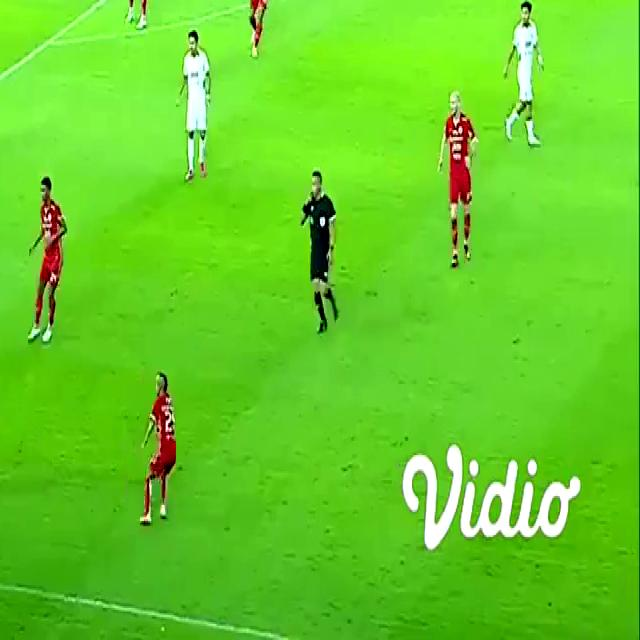referee: (290, 158, 360, 341)
soccer-player: (16, 166, 84, 354), (121, 367, 187, 540), (434, 81, 494, 268), (492, 0, 555, 158), (169, 28, 224, 194), (234, 0, 284, 64), (113, 0, 163, 34)
